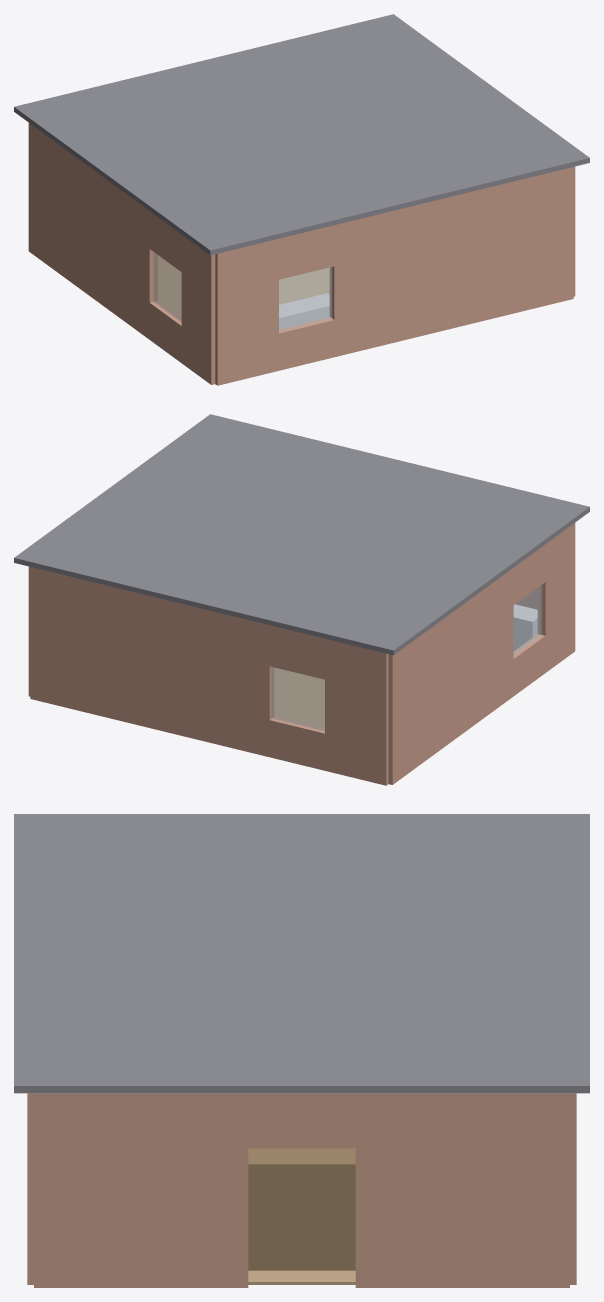
Rendered from cafe.glb.
3 views of the same model, one above another, from view 1: azimuth 30°, elevation 25°; view 2: azimuth 150°, elevation 25°; view 3: azimuth 270°, elevation 25° (orthographic). The views are drawn at different scales.
Size of the model in its own units: 9.6 by 3.42 by 8.6.
